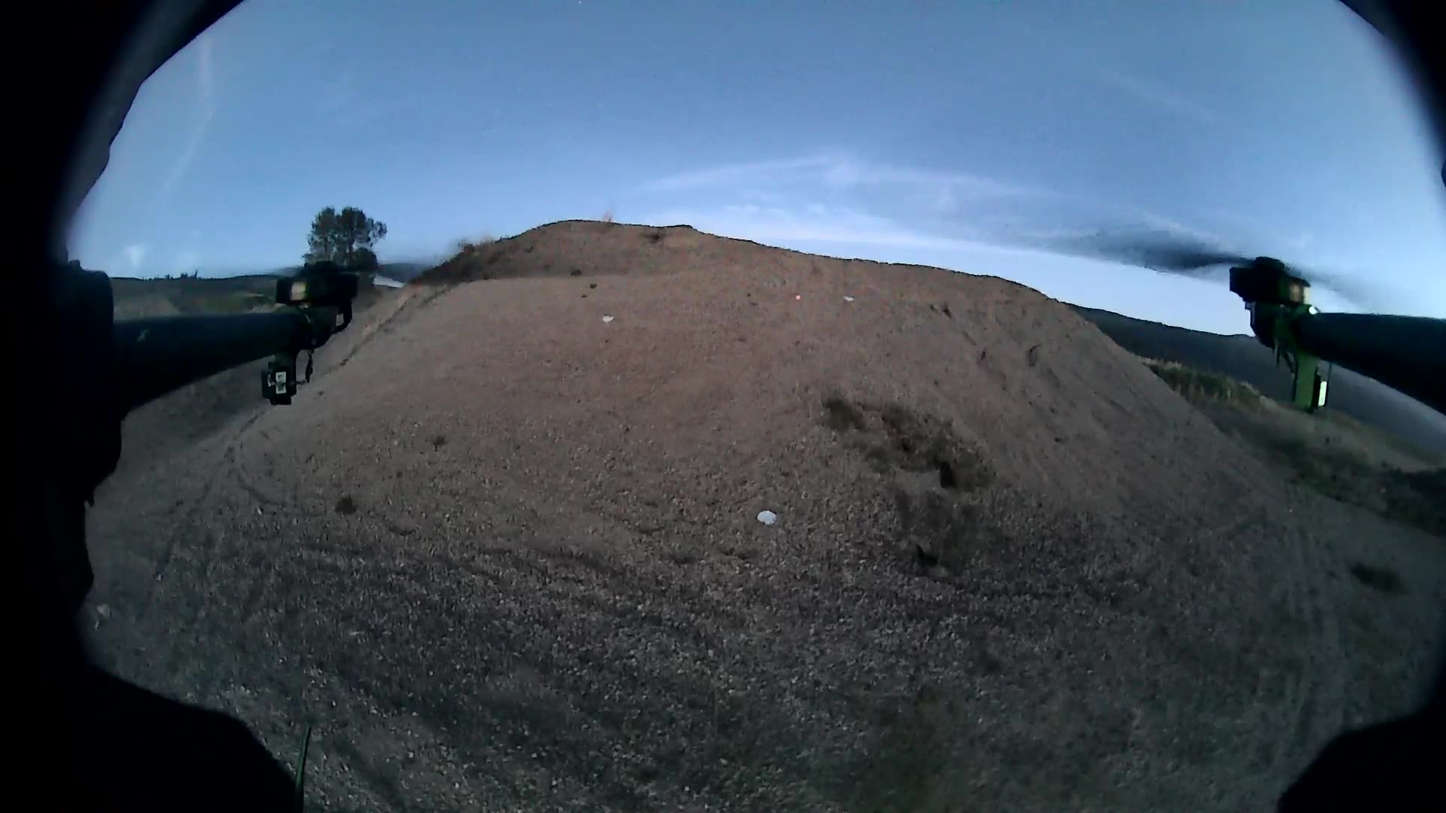Target: (756, 510, 777, 524)
